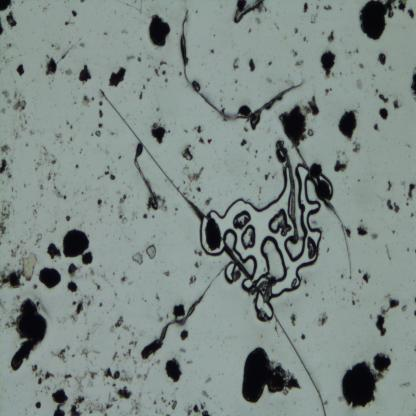Air bubble: (208, 168, 288, 219), (296, 164, 324, 295), (258, 235, 287, 284), (269, 210, 292, 238), (254, 292, 275, 320), (241, 226, 257, 250), (233, 211, 251, 229), (225, 261, 236, 285), (242, 278, 254, 291)
Background material: (239, 345, 303, 401), (8, 297, 49, 375), (337, 352, 393, 409), (358, 1, 407, 39), (62, 228, 94, 266), (279, 106, 308, 146), (56, 35, 92, 66), (377, 296, 401, 336), (146, 15, 170, 48), (68, 298, 96, 326), (33, 142, 58, 173), (204, 215, 223, 251), (338, 108, 358, 141), (318, 50, 338, 81), (23, 201, 50, 223), (113, 340, 137, 364), (0, 265, 23, 289), (0, 199, 13, 240), (164, 356, 183, 384), (21, 252, 37, 284), (38, 268, 62, 289), (87, 396, 115, 414), (51, 387, 68, 416), (15, 115, 35, 139), (152, 61, 170, 84), (52, 173, 67, 200), (107, 68, 127, 88), (304, 94, 320, 117), (151, 123, 166, 147), (10, 238, 26, 260), (118, 194, 129, 226), (340, 290, 358, 309), (184, 401, 208, 415), (44, 55, 58, 79), (69, 394, 85, 415), (333, 156, 350, 175), (46, 241, 62, 260), (114, 385, 134, 400), (184, 167, 204, 182), (78, 62, 92, 83), (84, 347, 100, 365), (292, 26, 310, 42), (0, 157, 12, 180), (96, 100, 103, 138), (102, 366, 122, 379), (67, 263, 84, 278), (120, 367, 134, 385), (63, 117, 73, 141), (385, 198, 400, 214), (132, 391, 142, 415), (173, 302, 186, 320), (155, 194, 168, 212), (98, 169, 117, 181), (51, 349, 67, 363), (87, 370, 98, 390), (316, 310, 328, 328), (145, 243, 157, 261), (377, 108, 392, 122), (6, 11, 18, 28), (76, 373, 86, 393), (13, 98, 27, 112), (181, 145, 194, 160), (2, 40, 18, 52), (406, 180, 416, 199), (196, 247, 206, 266), (132, 251, 144, 266), (410, 71, 416, 101), (36, 180, 46, 198), (53, 131, 64, 147), (356, 223, 369, 236), (30, 364, 43, 377), (67, 280, 79, 294), (376, 53, 388, 67), (377, 92, 390, 104), (81, 96, 96, 106), (238, 104, 250, 116), (392, 99, 404, 111), (360, 272, 371, 285), (231, 56, 241, 70), (2, 90, 12, 104), (179, 329, 189, 343), (328, 30, 338, 44), (289, 312, 297, 329), (16, 63, 25, 78), (0, 0, 12, 11), (114, 316, 125, 328), (61, 372, 72, 384), (250, 117, 260, 130), (90, 279, 101, 290), (167, 399, 178, 410), (188, 273, 198, 285), (302, 2, 311, 15), (247, 58, 256, 71), (0, 17, 6, 36), (356, 78, 364, 92), (0, 144, 11, 154), (193, 124, 203, 135), (205, 196, 214, 208), (407, 8, 415, 21), (99, 28, 111, 36), (386, 243, 391, 262), (354, 141, 361, 154), (119, 275, 129, 284), (322, 4, 333, 12), (293, 58, 304, 66), (263, 170, 270, 182), (127, 54, 136, 63), (208, 46, 216, 56), (44, 372, 55, 379), (138, 90, 144, 102), (64, 68, 73, 76), (35, 400, 42, 410), (307, 128, 314, 138), (386, 180, 392, 191), (310, 14, 316, 25), (371, 232, 379, 240), (198, 137, 205, 146), (142, 213, 151, 220), (240, 139, 247, 147), (401, 305, 408, 313), (374, 121, 379, 132), (72, 162, 78, 171), (267, 59, 273, 68), (72, 10, 78, 18), (38, 376, 44, 384), (86, 332, 92, 340), (96, 196, 102, 204), (0, 106, 6, 114), (207, 137, 212, 146), (64, 21, 73, 26), (65, 215, 71, 222), (412, 308, 416, 318), (197, 185, 202, 193), (359, 63, 364, 70), (406, 249, 409, 253)
Cellulose filter fibre: (181, 9, 306, 122), (294, 143, 352, 280), (142, 267, 224, 357), (279, 142, 299, 244), (132, 150, 157, 212), (233, 1, 264, 25)
Microfibre: (100, 89, 326, 414)
